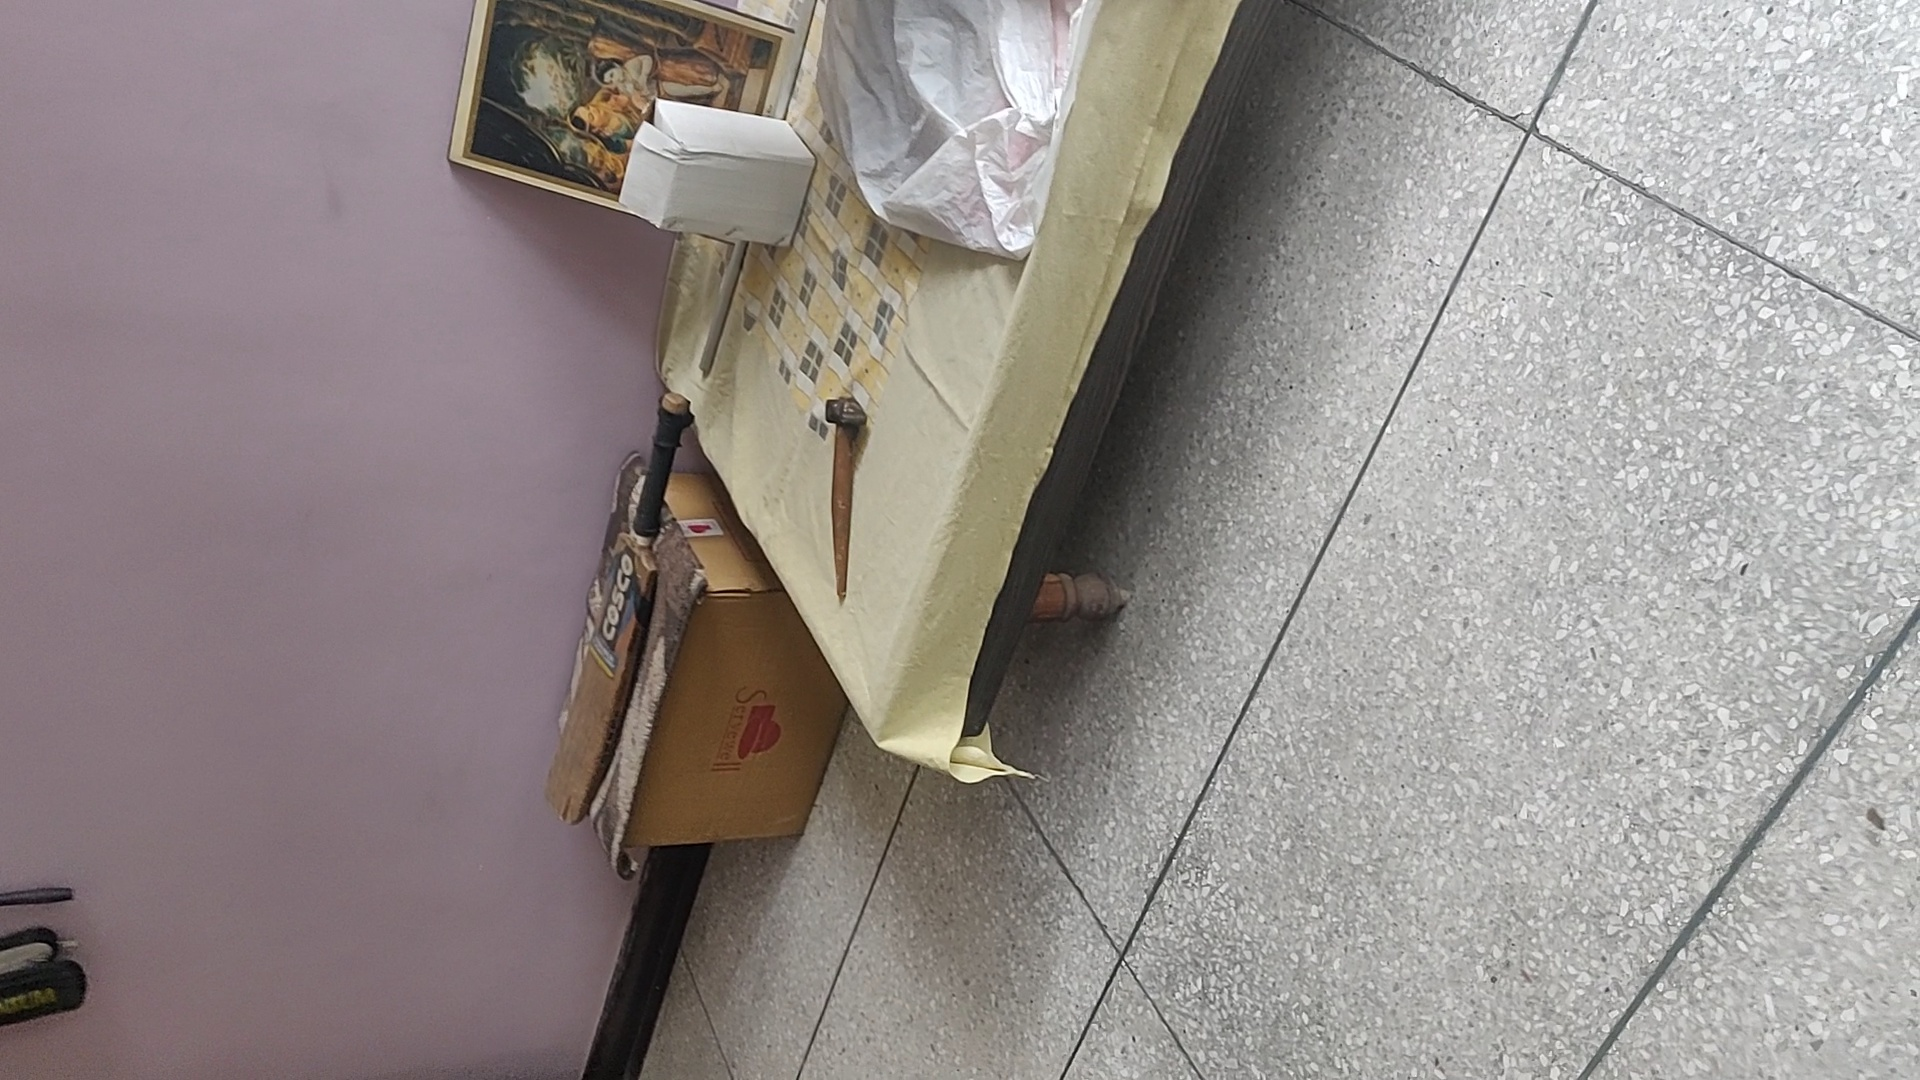hammer: (822, 393, 868, 601)
